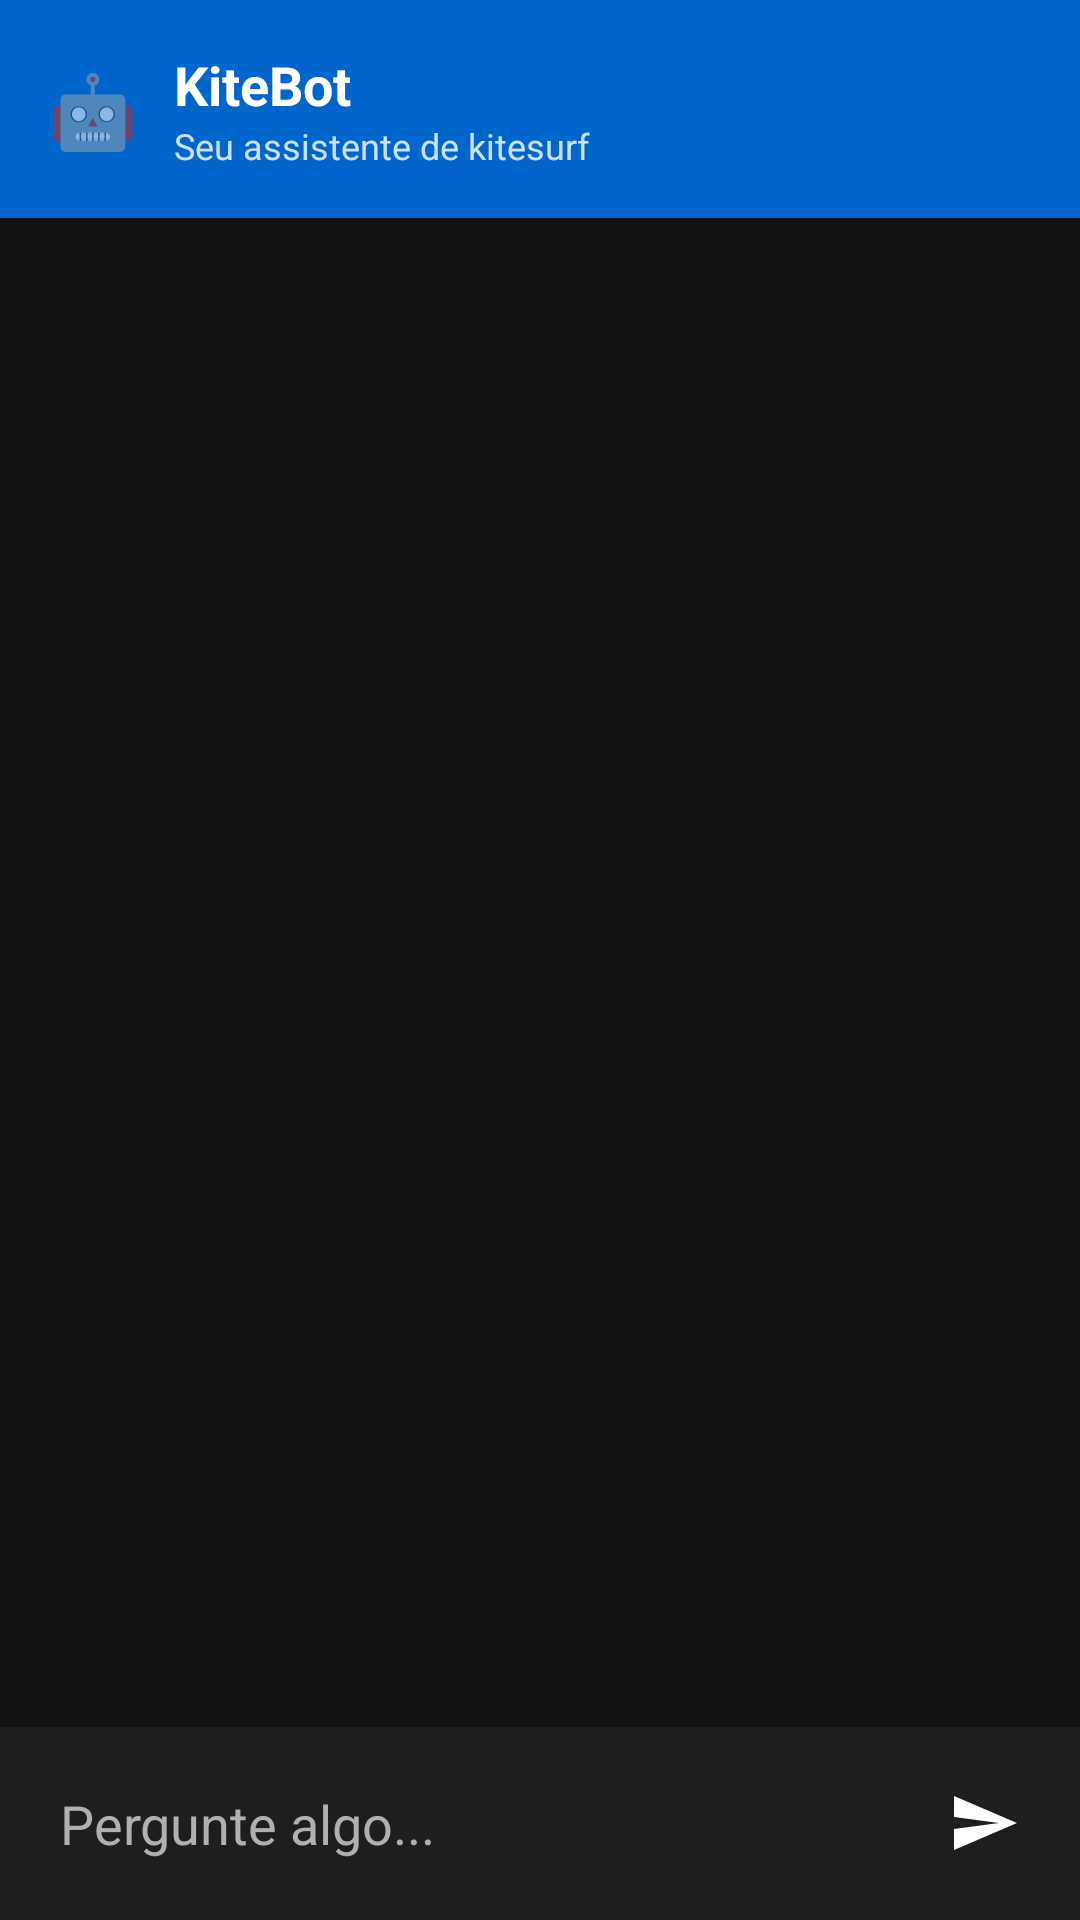

Screen size 1080 × 1920. Icon name, then its center in pixels as point (x, y):
Enviar: point (985, 1823)
